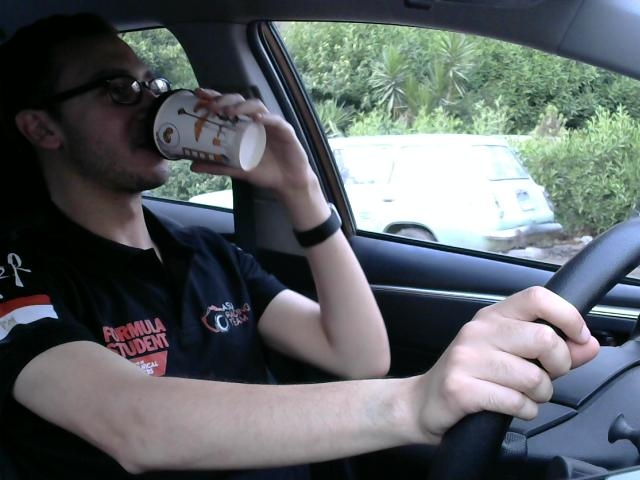Drinking: (141, 76, 269, 176)
